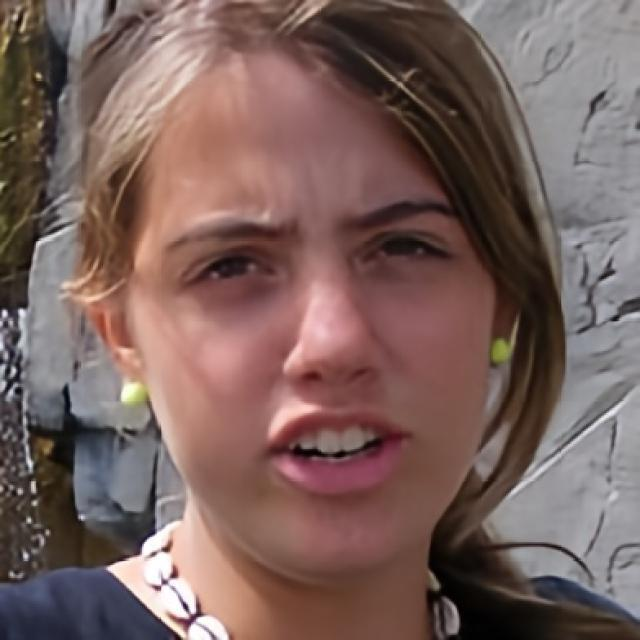disgust: (126, 29, 496, 576)
